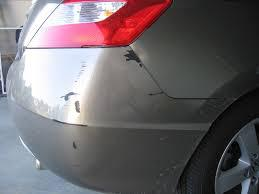rear-bumper-dent: (17, 40, 154, 193)
